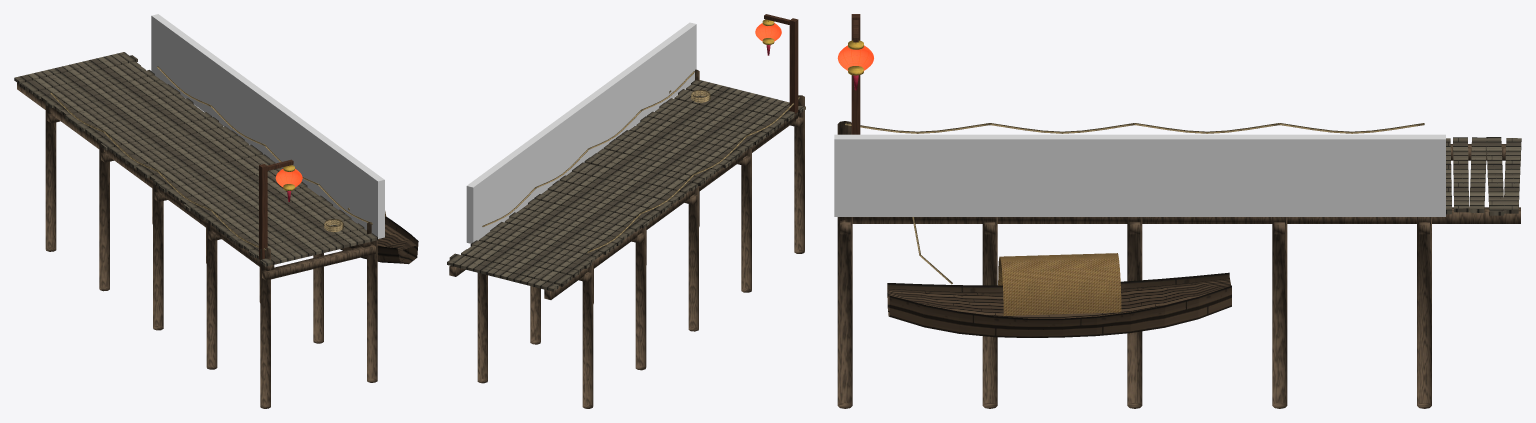
The model's file is river_dock.glb.
3 views of the same model, side by side, from view 1: azimuth 30°, elevation 25°; view 2: azimuth 150°, elevation 25°; view 3: azimuth 270°, elevation 25° (orthographic). The views are drawn at different scales.
Parts seen in each view (by area): view 1: DockDeck, DockRail-convcolonly.001, DockPiles, SampanHull, DockRopes, DockPost, LanternPaper; view 2: DockDeck, DockRail-convcolonly.001, DockPiles, DockRopes, DockPost, LanternPaper; view 3: DockRail-convcolonly.001, DockPiles, SampanHull, SampanCanopy, DockDeck, DockRopes, DockPost, LanternPaper.
Boxes of the visible parts, box(x1,y1,x2,y2) form: DockDeck: box(14, 52, 377, 266); DockRail-convcolonly.001: box(151, 14, 384, 238); DockPiles: box(17, 83, 377, 408); SampanHull: box(340, 217, 418, 264); DockRopes: box(50, 66, 372, 250); DockPost: box(259, 159, 293, 259); LanternPaper: box(275, 169, 302, 187); DockDeck: box(447, 80, 805, 291); DockRail-convcolonly.001: box(466, 22, 696, 243); DockPiles: box(449, 69, 804, 408); DockRopes: box(482, 71, 800, 252); DockPost: box(764, 14, 798, 113); LanternPaper: box(755, 23, 781, 41); DockRail-convcolonly.001: box(834, 134, 1445, 216); DockPiles: box(837, 121, 1520, 408); SampanHull: box(887, 272, 1231, 337); SampanCanopy: box(998, 253, 1121, 315); DockDeck: box(1446, 137, 1521, 215); DockRopes: box(845, 123, 1424, 284); DockPost: box(851, 14, 860, 134); LanternPaper: box(837, 45, 873, 70).
Size of what is drawn, in the model's own units: 5.41 by 6.6 by 12.81.
9 materials, 9 textured.
